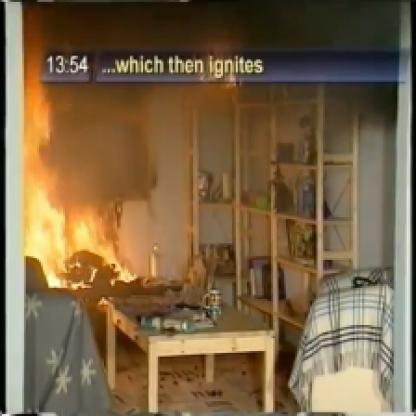fire: (14, 33, 180, 307), (204, 28, 248, 115)
